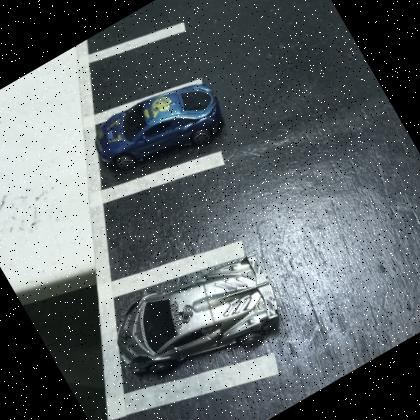Car: (97, 234, 295, 405)
